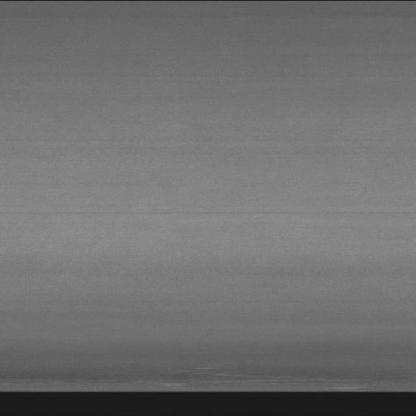silk_spot: (144, 360, 354, 390)
